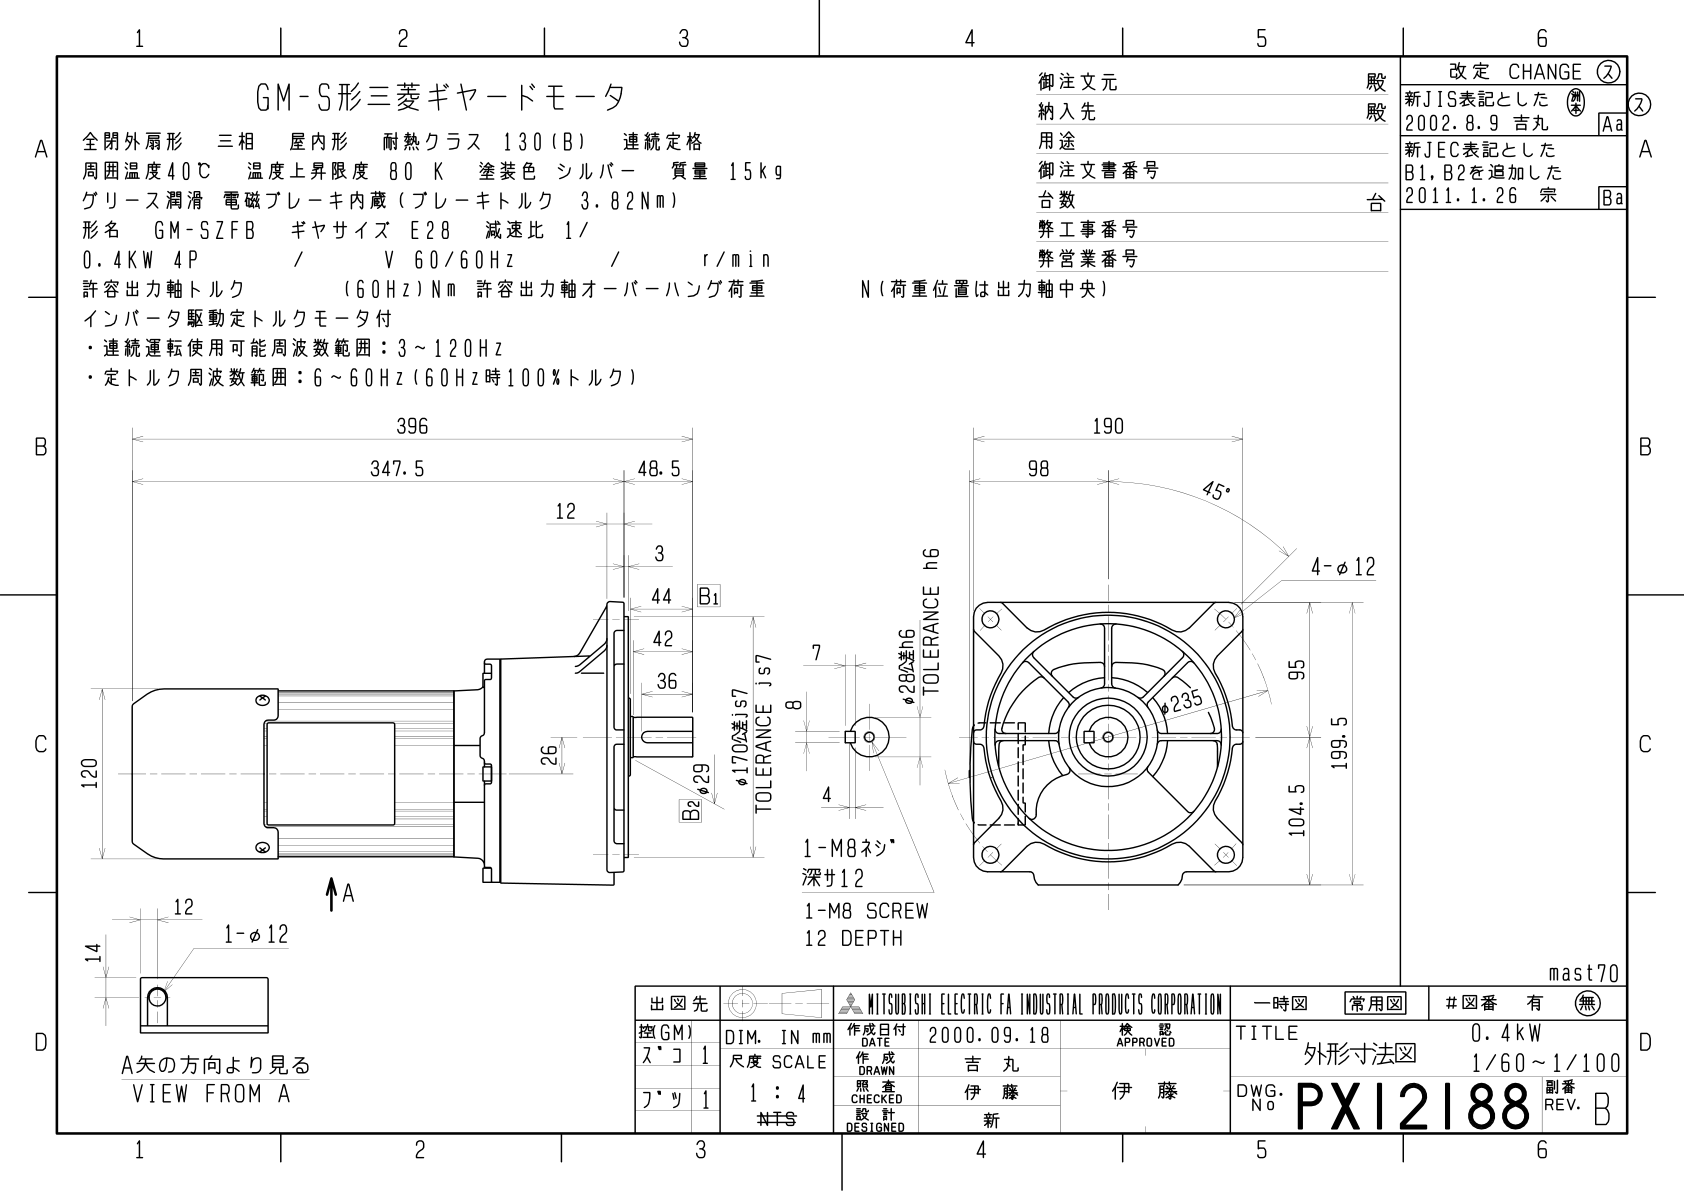GM_S_インバタ屋内＿三相_フランジ: (70, 394, 1385, 967)
